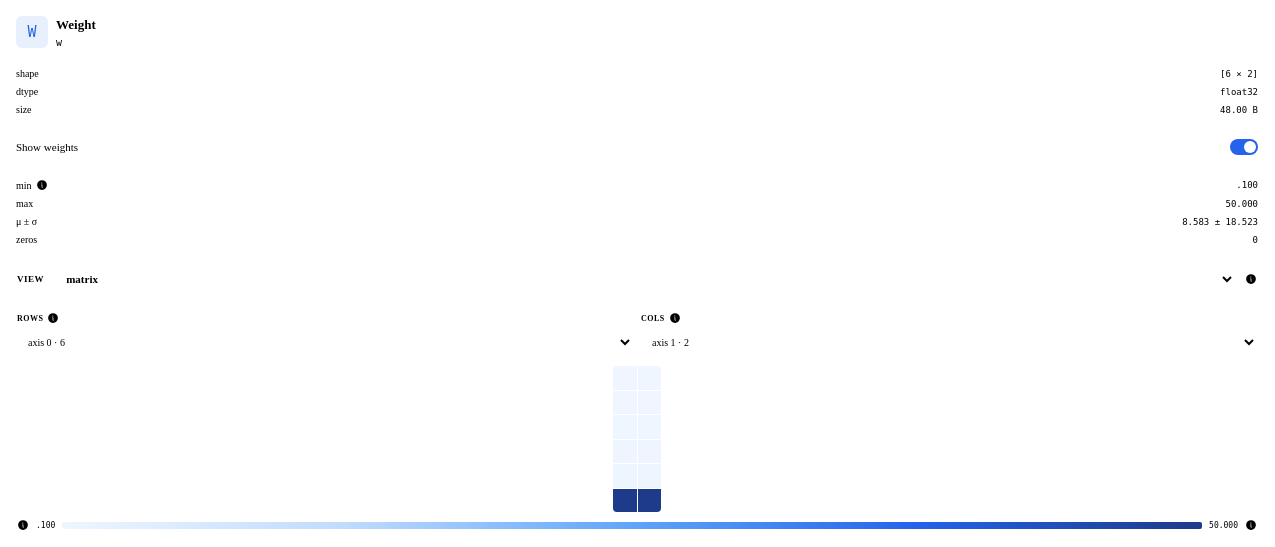
diagnostics states the outlier rule and trims norm precision
Select "diagnostics" in the dropdown named "Weight inspector" at [645, 279], box 54,264 -> 1235,294
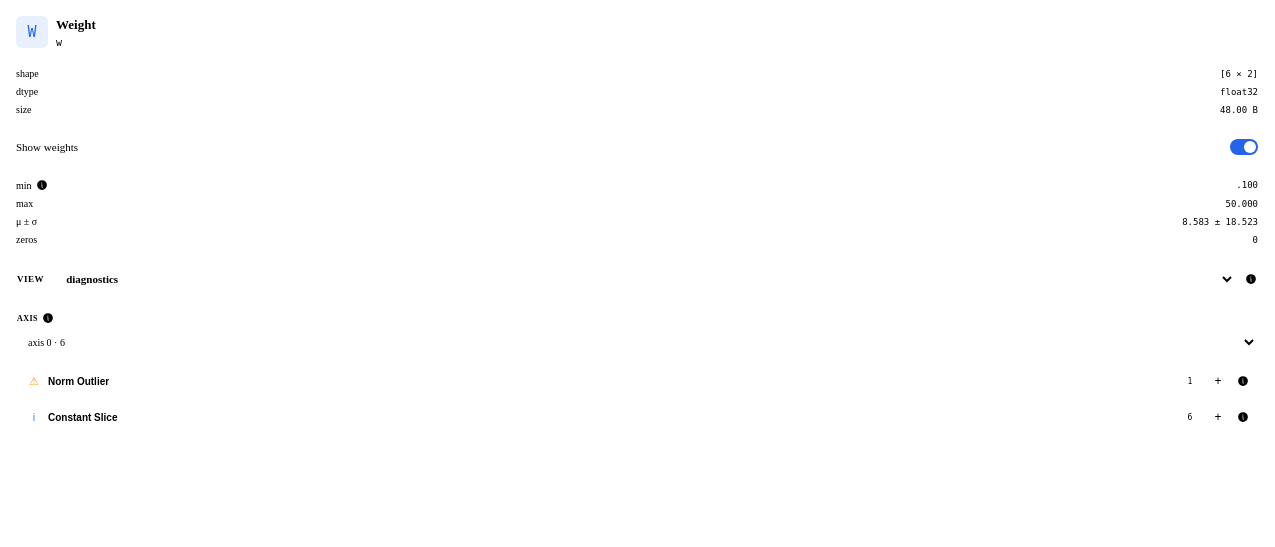
Click the button "⚠ norm outlier 1 +" at [79, 381], box 17,366 -> 1233,396
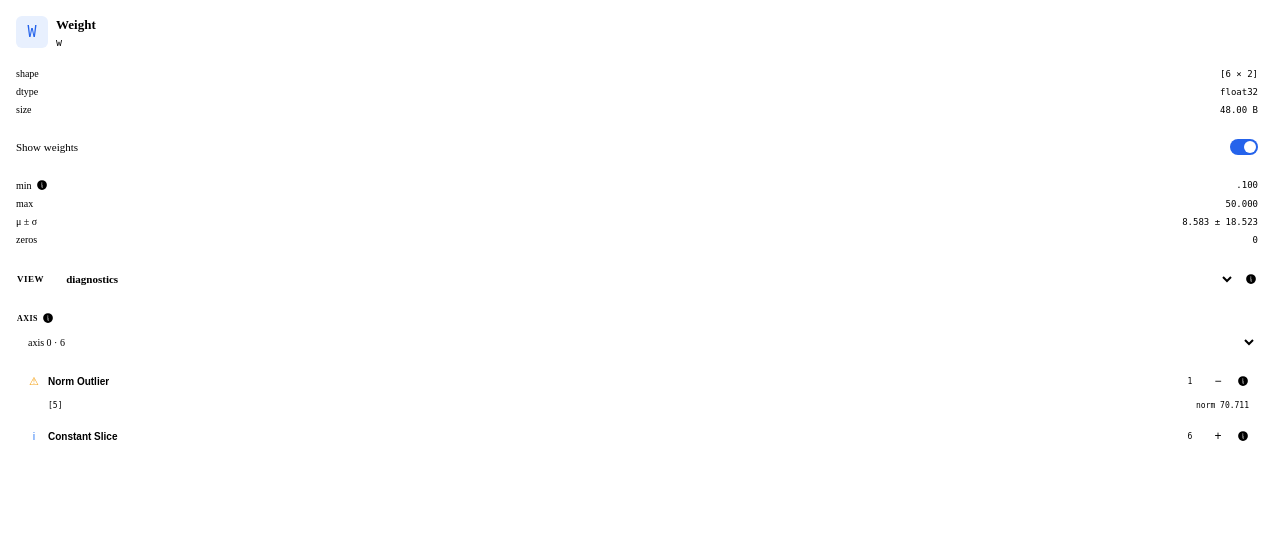
expect the text with test id "finding-value" reads "norm 70.711": met, box 1196,401 -> 1249,410
